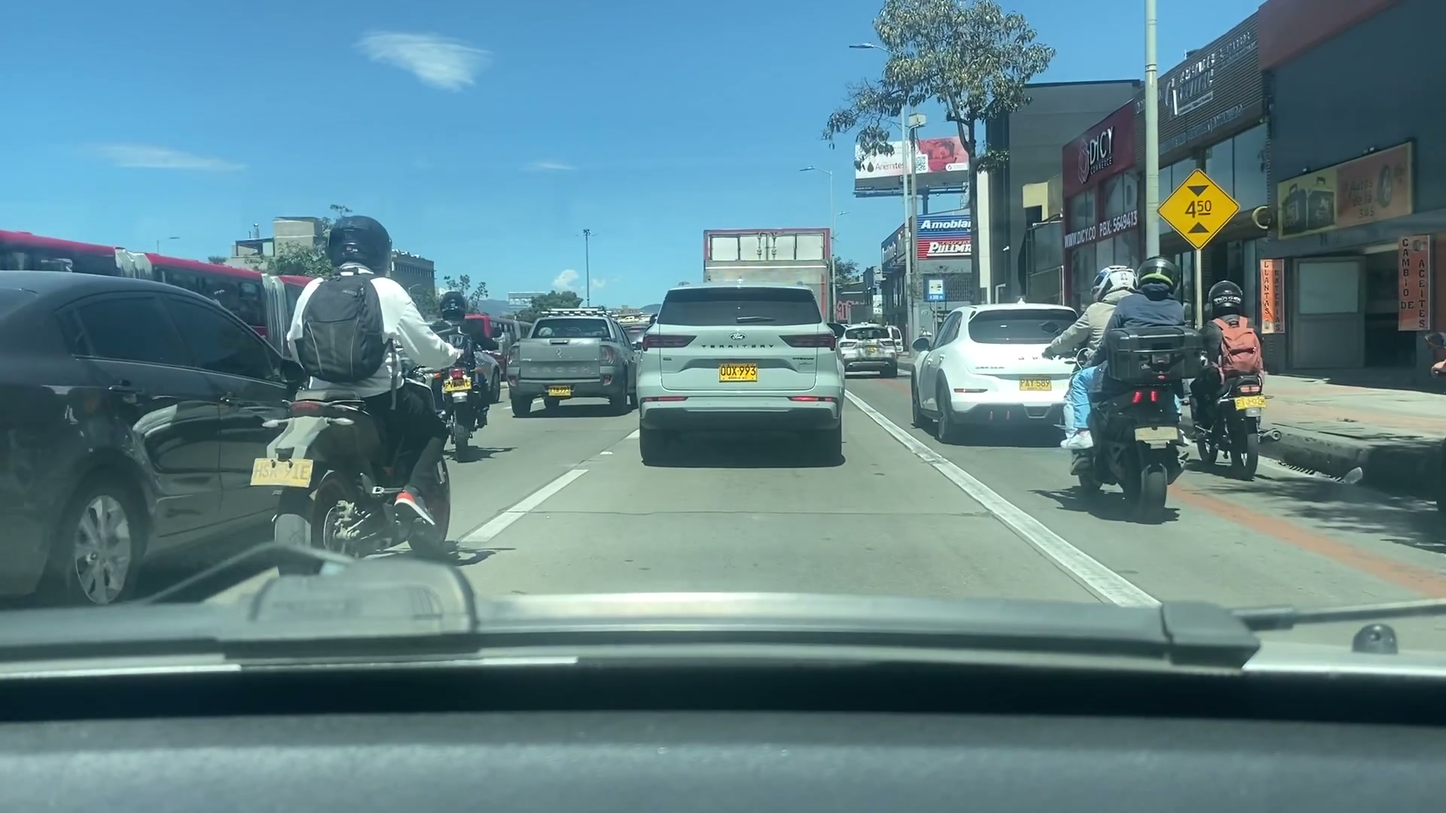car: (0, 265, 327, 610), (633, 283, 845, 470), (907, 304, 1087, 441), (506, 303, 638, 422), (834, 325, 899, 379)
motorcycle: (244, 383, 466, 579), (1055, 359, 1192, 523), (1179, 368, 1271, 476), (426, 366, 492, 453)
person: (285, 205, 434, 534), (1071, 256, 1189, 451), (1051, 263, 1140, 444), (1199, 279, 1267, 434), (430, 285, 493, 413)
truck: (699, 228, 828, 317)
